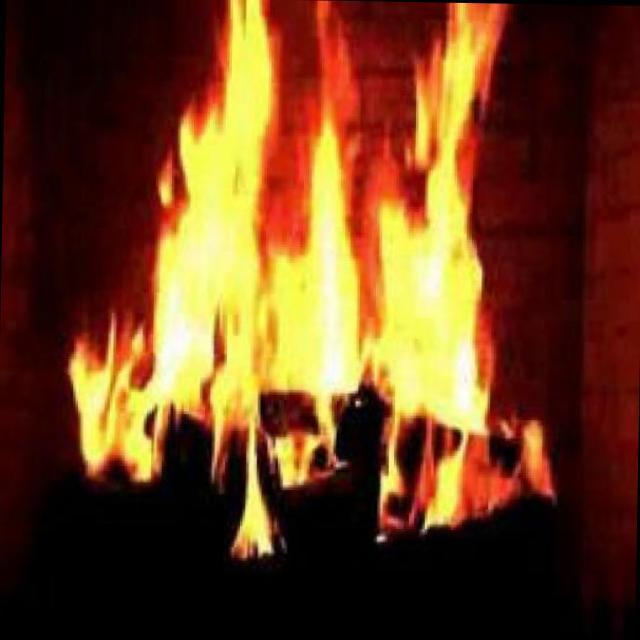Fire: (123, 19, 493, 498)
